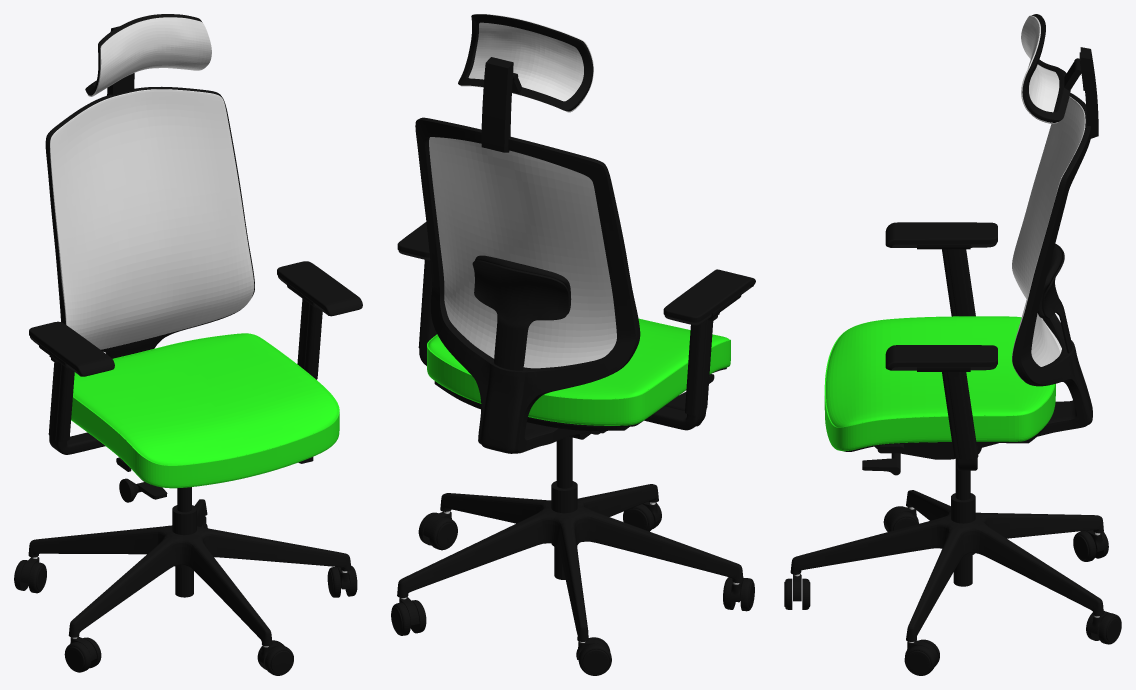
Rendered from Office Chair 1.fbx.
The picture shows the model from 3 angles, left to right: view 1: azimuth 30°, elevation 25°; view 2: azimuth 150°, elevation 25°; view 3: azimuth 270°, elevation 25°; orthographic projection. The views are drawn at different scales.
Visible parts, largest first — view 1: tk_opar#pc_mdd_sava_back|1|5, tka_sied2#pc_mdd_sava_seatcolor|1, krzyzak1#pc_mdd_sava_base|1, tka_sied1#pc_mdd_sava_seatcolor|1, zagl2#pc_mdd_sava_head|0|3012#pc_mdd_sava_back|1|7|3124, podlokietniki3#pc_mdd_sava_armrest|0|3017#plastik, podlokietniki6#pc_mdd_sava_armrest|0|3017#plastik, tworzywo1#plastik, kolkaaszare#color|404040, kolka1#plastik, kolka2#plastik.001, podlokietniki7#pc_mdd_sava_armrest|0|3017#plastik (+3 smaller); view 2: tk_opar#pc_mdd_sava_back|1|5, tworzywo1#plastik, krzyzak1#pc_mdd_sava_base|1, tka_sied1#pc_mdd_sava_seatcolor|1, ledzwie2#pc_mdd_sava_lumbar|0|3010#plastik, zagl2#pc_mdd_sava_head|0|3012#pc_mdd_sava_back|1|7|3124, tka_sied2#pc_mdd_sava_seatcolor|1, podlokietniki3#pc_mdd_sava_armrest|0|3017#plastik, podlokietniki6#pc_mdd_sava_armrest|0|3017#plastik, zag5#pc_mdd_sava_head|0|3012#plastik, zag1#pc_mdd_sava_head|0|3012#plastik, kolkaaszare#color|404040 (+7 smaller); view 3: tka_sied2#pc_mdd_sava_seatcolor|1, krzyzak1#pc_mdd_sava_base|1, tworzywo1#plastik, tk_opar#pc_mdd_sava_back|1|5, tka_sied1#pc_mdd_sava_seatcolor|1, podlokietniki3#pc_mdd_sava_armrest|0|3017#plastik, podlokietniki6#pc_mdd_sava_armrest|0|3017#plastik, kolkaaszare#color|404040, zagl2#pc_mdd_sava_head|0|3012#pc_mdd_sava_back|1|7|3124, zag5#pc_mdd_sava_head|0|3012#plastik, kolka1#plastik, zag1#pc_mdd_sava_head|0|3012#plastik (+7 smaller).
Boxes of the visible parts, x1,y1,x2,y2 form: tk_opar#pc_mdd_sava_back|1|5: (50, 89, 254, 349); tka_sied2#pc_mdd_sava_seatcolor|1: (73, 333, 338, 465); krzyzak1#pc_mdd_sava_base|1: (28, 499, 351, 646); tka_sied1#pc_mdd_sava_seatcolor|1: (71, 333, 339, 488); zagl2#pc_mdd_sava_head|0|3012#pc_mdd_sava_back|1|7|3124: (87, 17, 211, 96); podlokietniki3#pc_mdd_sava_armrest|0|3017#plastik: (29, 261, 362, 376); podlokietniki6#pc_mdd_sava_armrest|0|3017#plastik: (48, 298, 322, 441); tworzywo1#plastik: (45, 86, 254, 358); kolkaaszare#color|404040: (14, 525, 356, 675); kolka1#plastik: (14, 566, 357, 674); kolka2#plastik.001: (20, 516, 350, 663); podlokietniki7#pc_mdd_sava_armrest|0|3017#plastik: (49, 432, 105, 454); tk_opar#pc_mdd_sava_back|1|5: (429, 137, 616, 368); tworzywo1#plastik: (415, 117, 640, 453); krzyzak1#pc_mdd_sava_base|1: (397, 484, 743, 641); tka_sied1#pc_mdd_sava_seatcolor|1: (427, 334, 730, 425); ledzwie2#pc_mdd_sava_lumbar|0|3010#plastik: (472, 260, 569, 370); zagl2#pc_mdd_sava_head|0|3012#pc_mdd_sava_back|1|7|3124: (460, 14, 593, 112); tka_sied2#pc_mdd_sava_seatcolor|1: (428, 318, 729, 398); podlokietniki3#pc_mdd_sava_armrest|0|3017#plastik: (397, 222, 755, 322); podlokietniki6#pc_mdd_sava_armrest|0|3017#plastik: (418, 260, 713, 415); zag5#pc_mdd_sava_head|0|3012#plastik: (458, 14, 593, 111); zag1#pc_mdd_sava_head|0|3012#plastik: (481, 57, 513, 152); kolkaaszare#color|404040: (392, 504, 753, 675); tka_sied2#pc_mdd_sava_seatcolor|1: (826, 316, 1053, 427); krzyzak1#pc_mdd_sava_base|1: (790, 490, 1103, 641); tworzywo1#plastik: (1012, 93, 1092, 436); tk_opar#pc_mdd_sava_back|1|5: (1012, 96, 1085, 380); tka_sied1#pc_mdd_sava_seatcolor|1: (824, 316, 1055, 451); podlokietniki3#pc_mdd_sava_armrest|0|3017#plastik: (885, 222, 997, 370); podlokietniki6#pc_mdd_sava_armrest|0|3017#plastik: (942, 249, 978, 459); kolkaaszare#color|404040: (785, 506, 1121, 675); zagl2#pc_mdd_sava_head|0|3012#pc_mdd_sava_back|1|7|3124: (1021, 15, 1059, 123); zag5#pc_mdd_sava_head|0|3012#plastik: (1022, 14, 1070, 122); kolka1#plastik: (784, 517, 1121, 674); zag1#pc_mdd_sava_head|0|3012#plastik: (1080, 47, 1098, 138).
Bounding box in the file's own units: 70.94 × 130 × 68.89.
